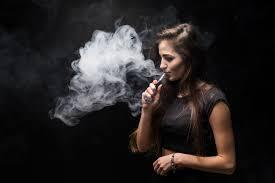smoker: (92, 13, 224, 120), (74, 163, 109, 165)
